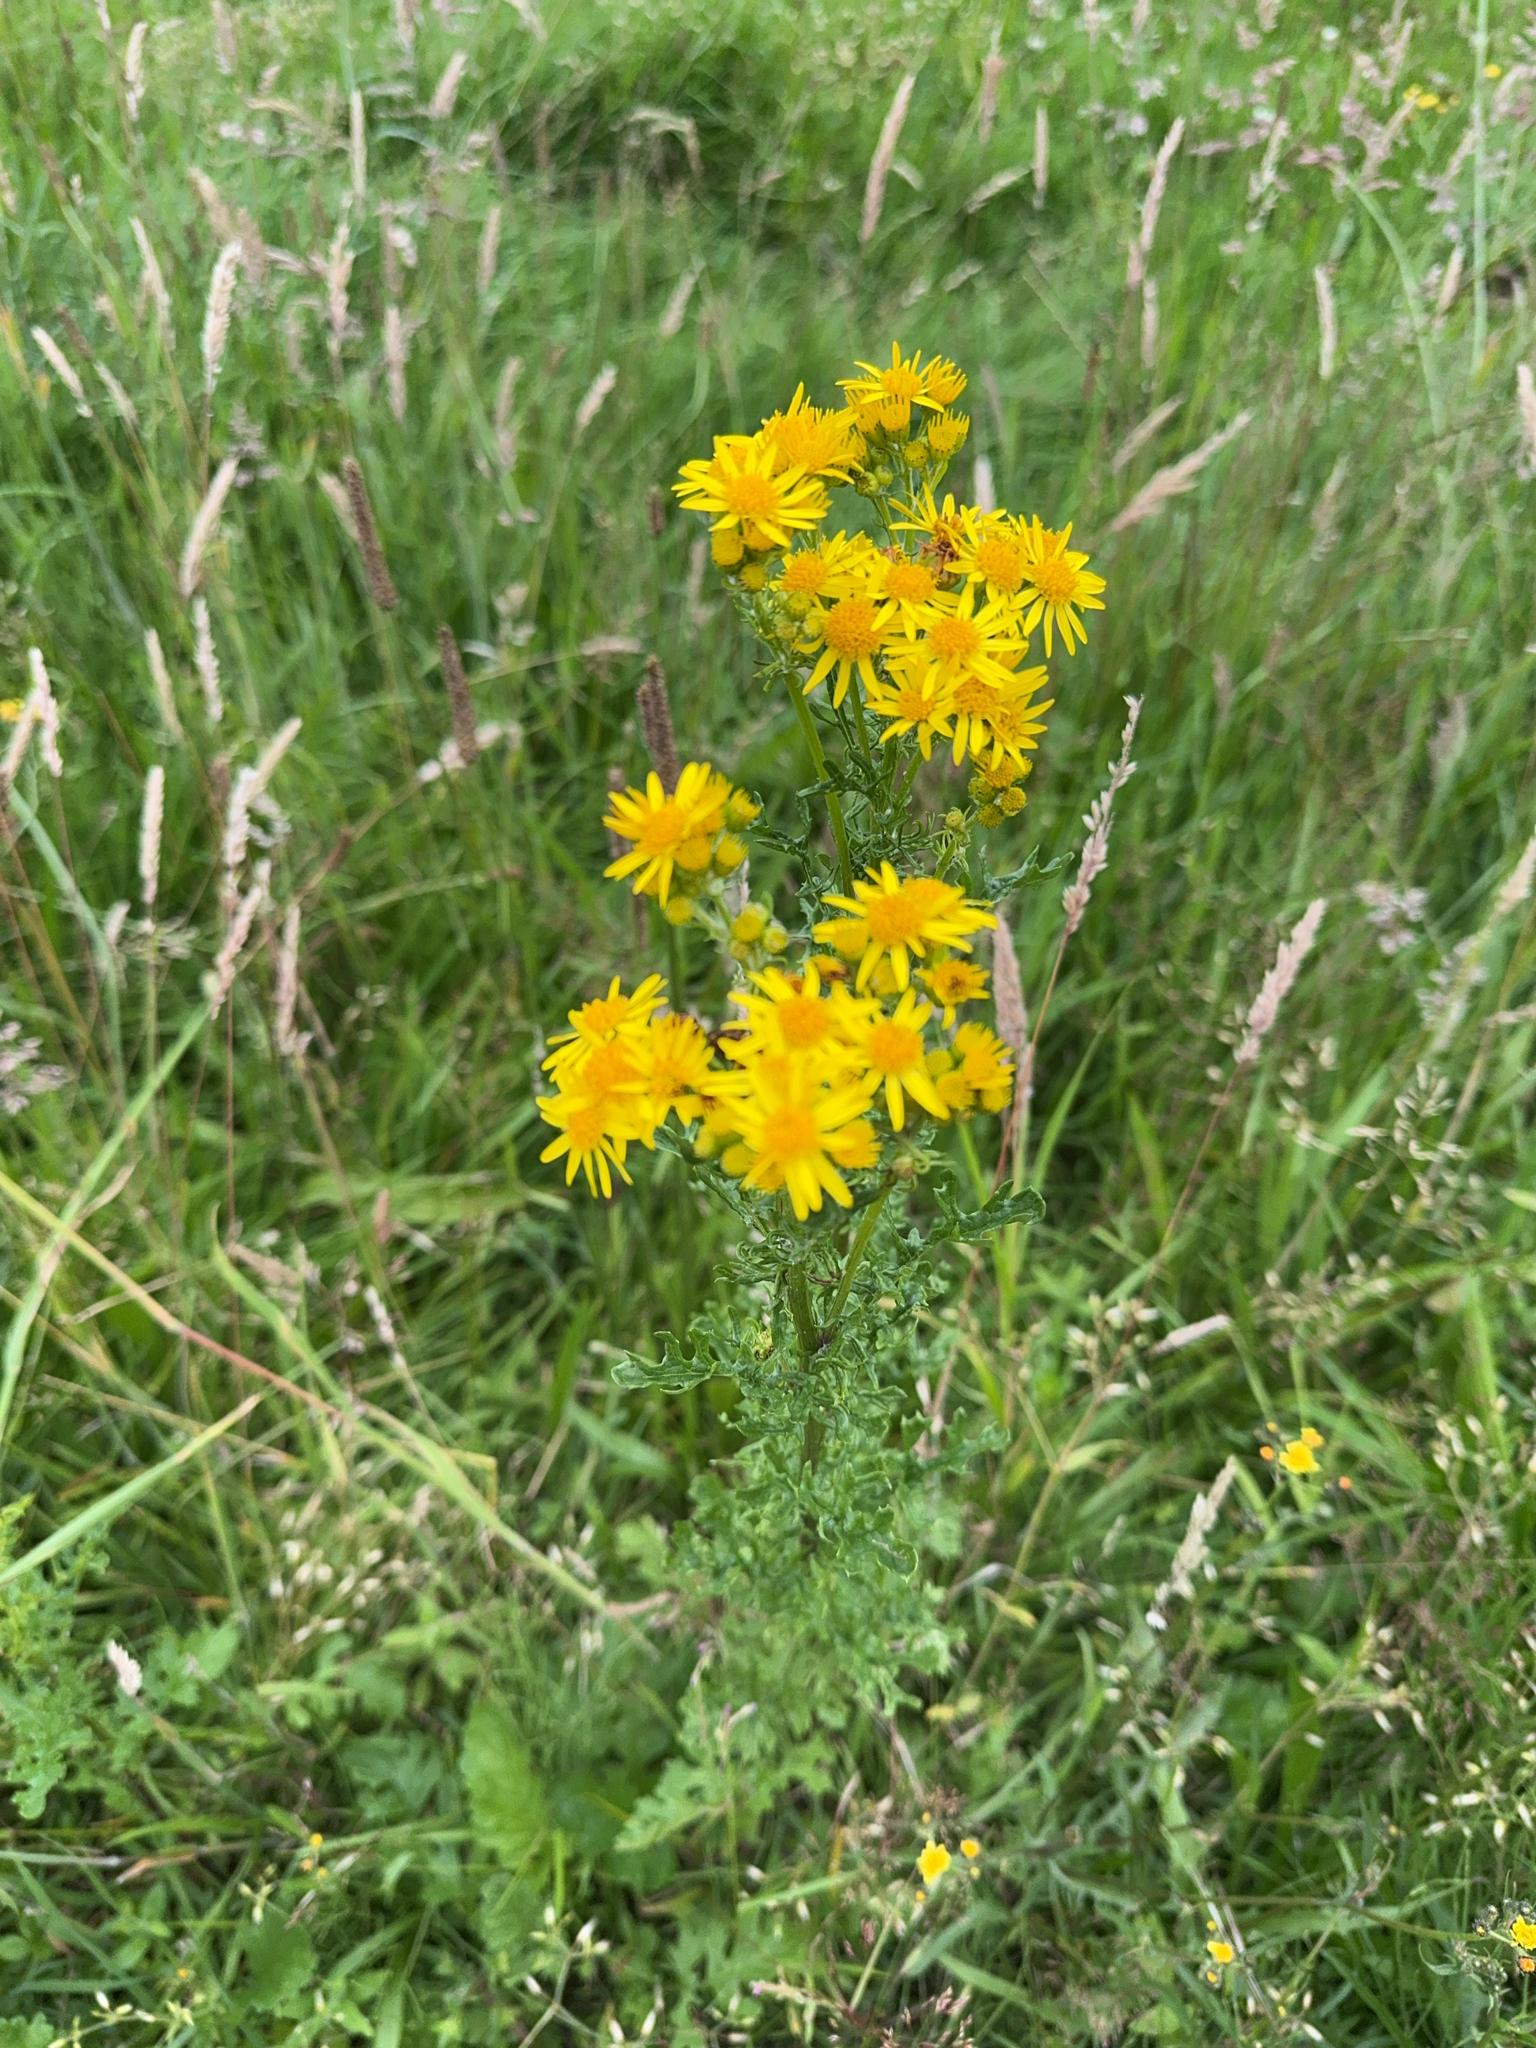Jacobaea vulgaris: (466, 290, 1147, 1946)
